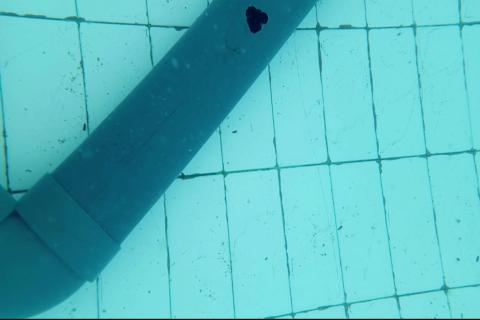kebocoran: (243, 3, 269, 34)
